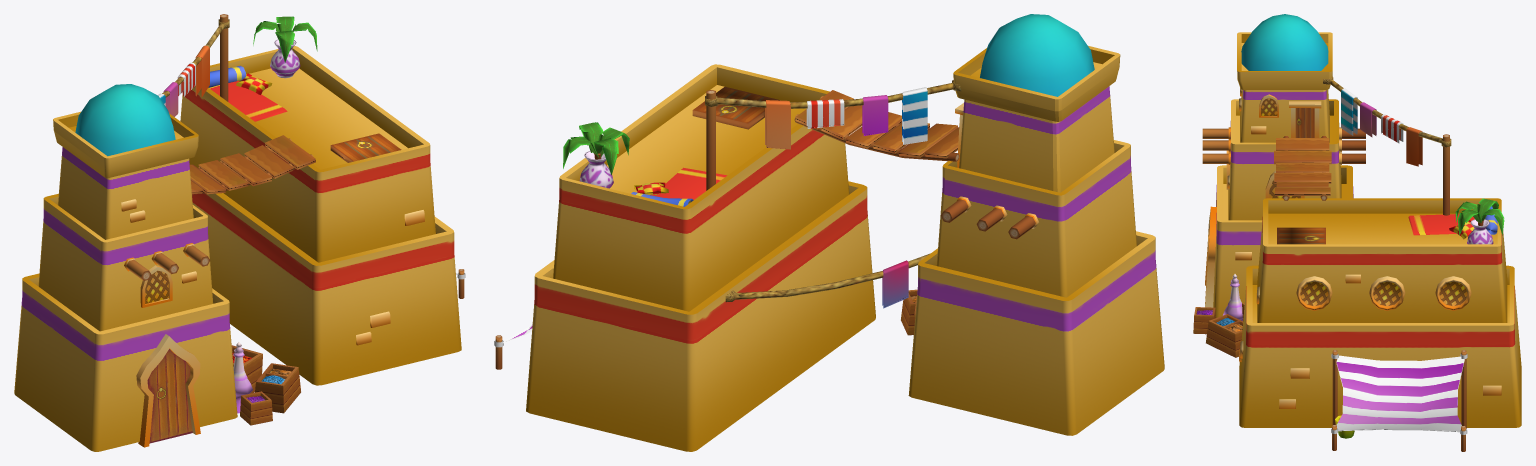
Rendered from ArabianHouse_XXL_10.fbx.
3 renders of one model, left to right at view 1: azimuth 30°, elevation 25°; view 2: azimuth 150°, elevation 25°; view 3: azimuth 270°, elevation 25°, orthographic. The views are drawn at different scales.
Parts seen in each view (by area): view 1: ArabianHouse_XXL_10; view 2: ArabianHouse_XXL_10; view 3: ArabianHouse_XXL_10.
Boxes of the visible parts, x1=… form: ArabianHouse_XXL_10: x1=14, y1=14, x2=465, y2=451; ArabianHouse_XXL_10: x1=494, y1=14, x2=1164, y2=451; ArabianHouse_XXL_10: x1=1193, y1=14, x2=1521, y2=451.
Bounding box in the file's own units: 9.13 × 6.3 × 6.75.
